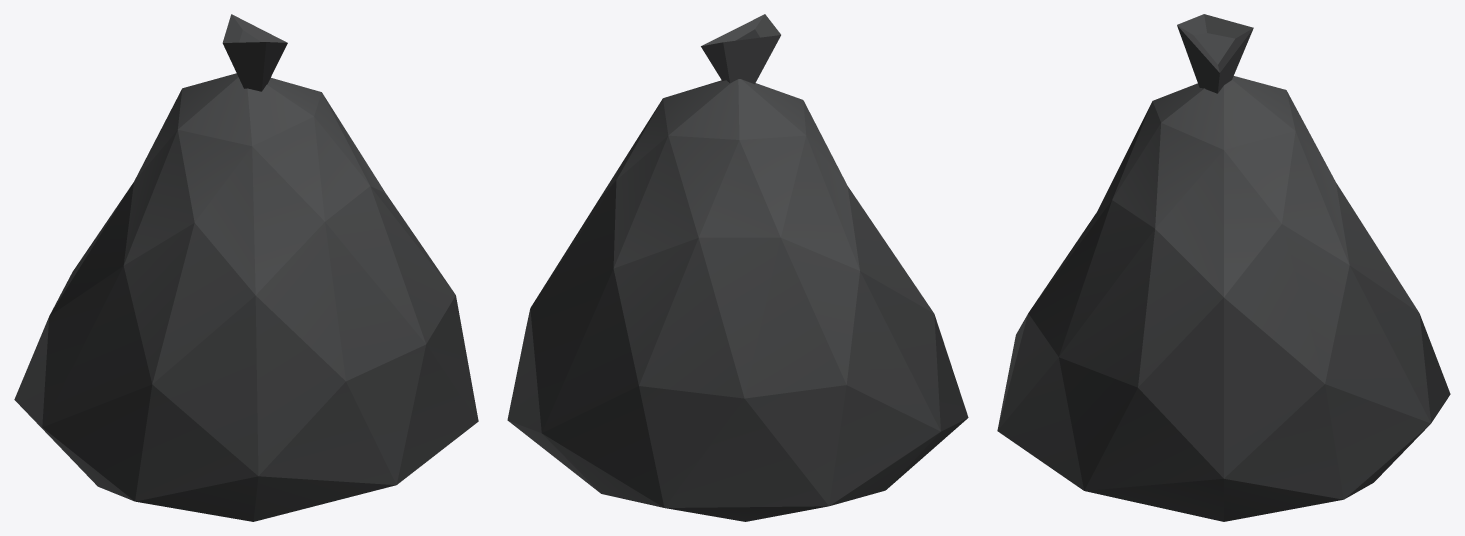
File: SM_trash_sack_02.fbx
3 renders of one model, left to right at view 1: azimuth 30°, elevation 25°; view 2: azimuth 150°, elevation 25°; view 3: azimuth 270°, elevation 25°, orthographic.
Parts seen in each view (by area): view 1: GeoSphere002; view 2: GeoSphere002; view 3: GeoSphere002.
Boxes of the visible parts, left/top/right/bottom form: GeoSphere002: left=14, top=14, right=478, bottom=521; GeoSphere002: left=507, top=14, right=968, bottom=521; GeoSphere002: left=997, top=14, right=1450, bottom=521.
Bounding box in the file's own units: 28.85 × 28.98 × 27.22.
